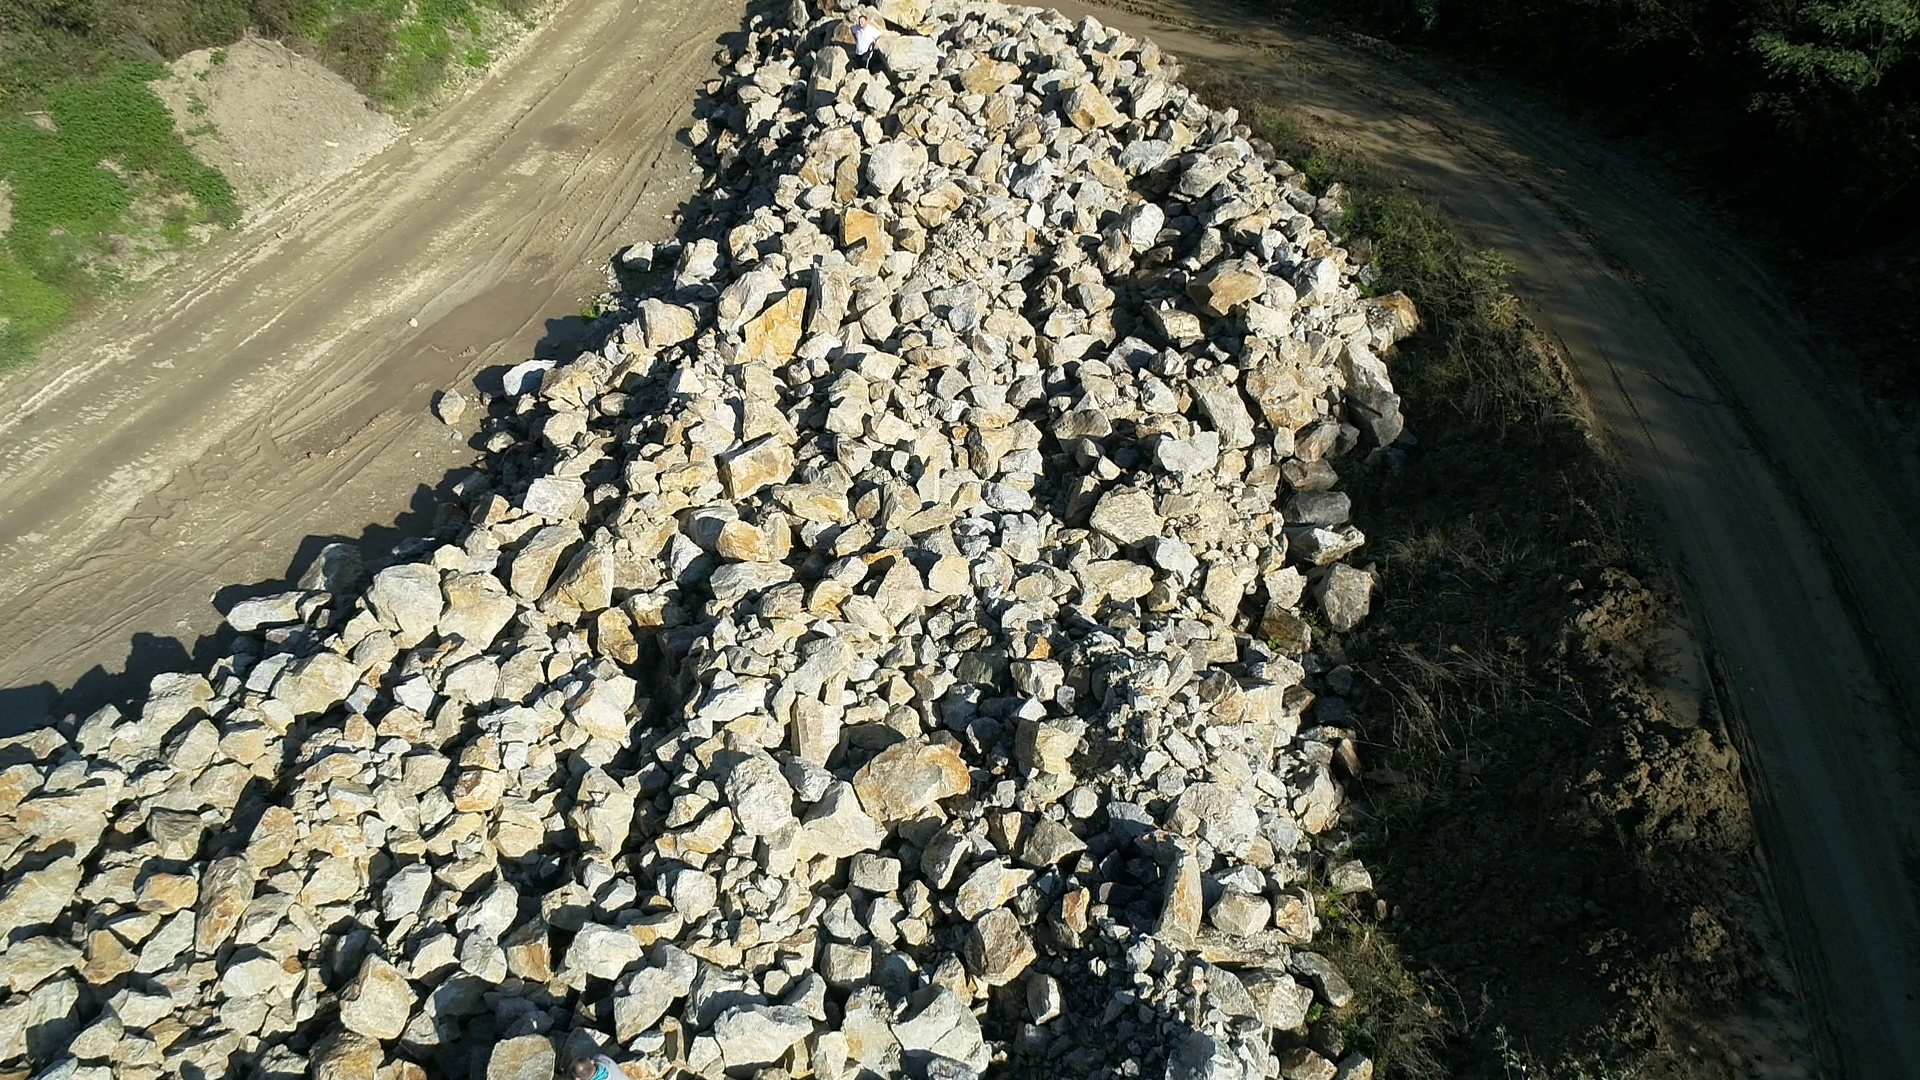not_defined: (568, 1051, 633, 1080)
person: (850, 15, 885, 73)
